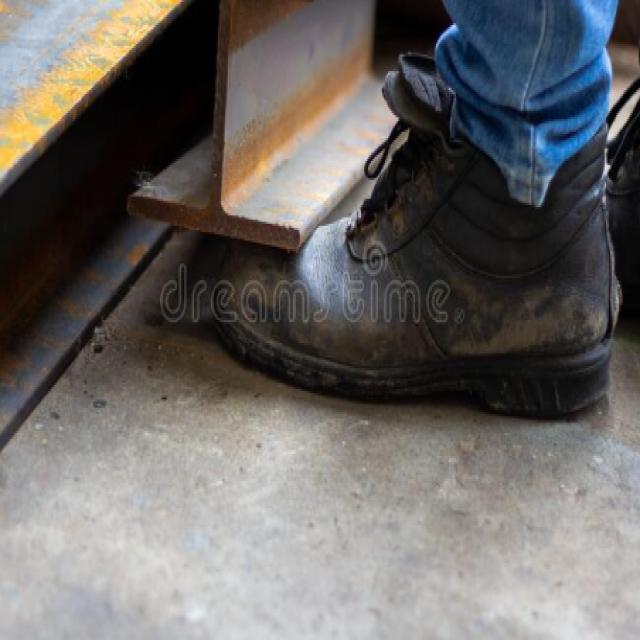shoes: (202, 0, 640, 429)
